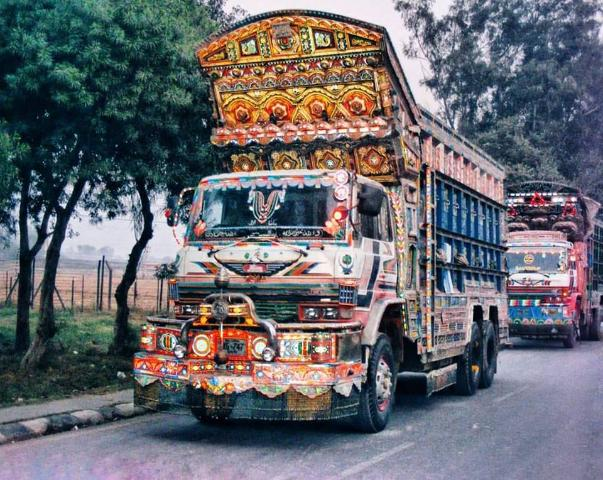truck: (128, 0, 507, 446), (507, 171, 603, 360)
